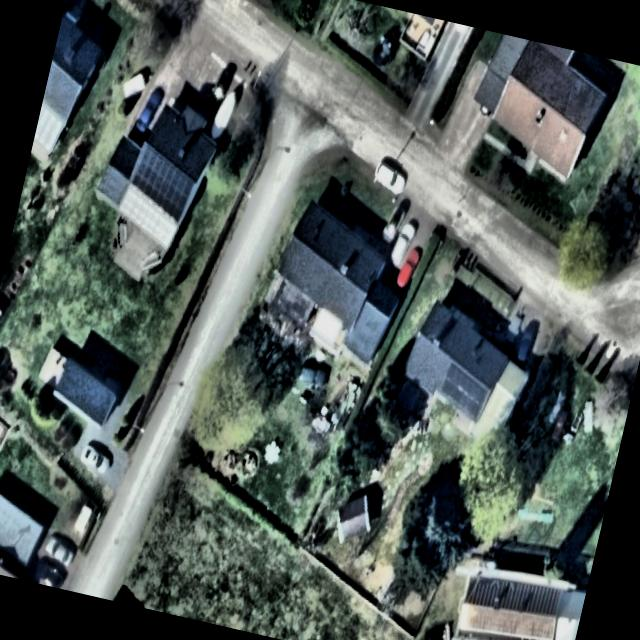roof_pv: (124, 140, 200, 222), (434, 360, 494, 424)
